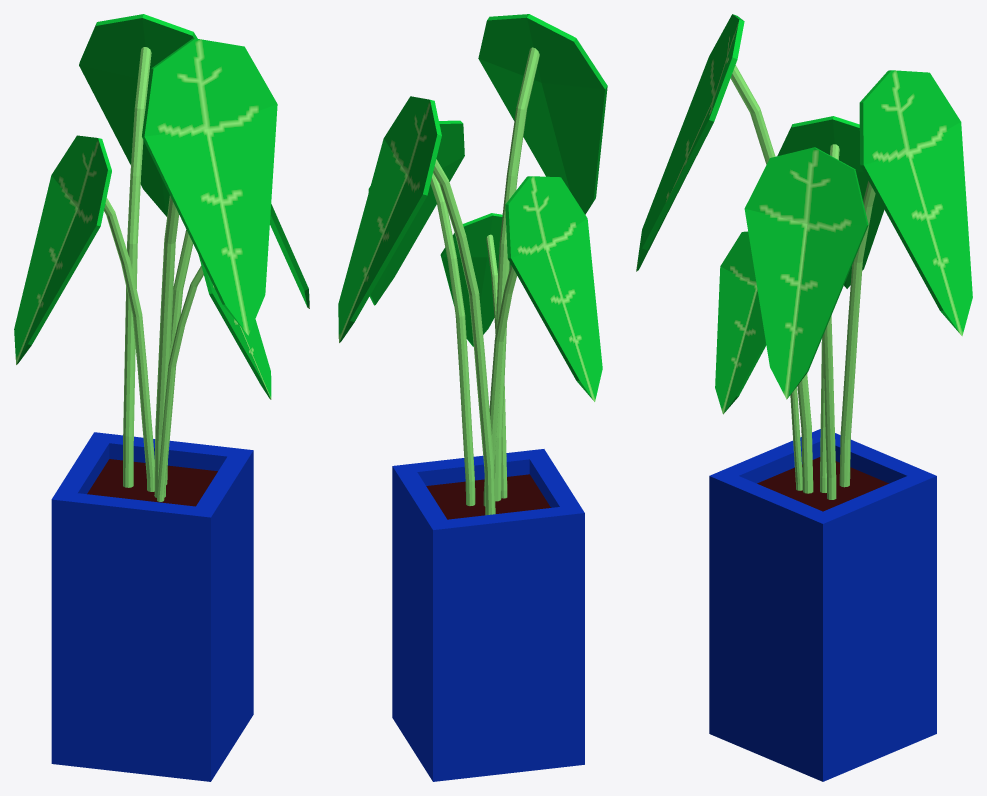
Rendered from alocasia.glb.
3 views of the same model, side by side, from view 1: azimuth 30°, elevation 25°; view 2: azimuth 150°, elevation 25°; view 3: azimuth 270°, elevation 25° (orthographic). The views are drawn at different scales.
Parts seen in each view (by area): view 1: alocasia; view 2: alocasia; view 3: alocasia.
Part boxes in pixels (x1,y1,x2,y2): alocasia: [14, 14, 309, 781]; alocasia: [338, 14, 607, 781]; alocasia: [636, 14, 972, 781].
Size of the model in its own units: 0.5218 by 1.38 by 0.5917.
1 material, 1 textured.
